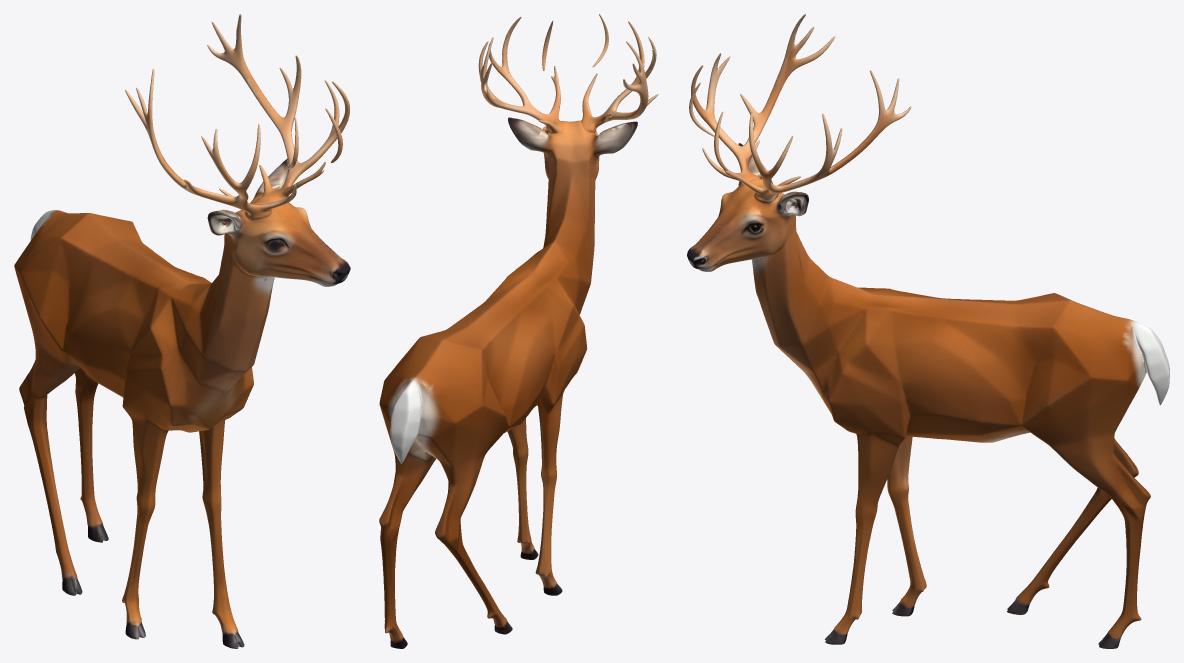
File: stand.glb
3 renders of one model, left to right at view 1: azimuth 30°, elevation 25°; view 2: azimuth 150°, elevation 25°; view 3: azimuth 270°, elevation 25°, orthographic. The views are drawn at different scales.
Size of the model in its own units: 0.6026 by 1.9 by 1.43.
Materials: 1 (1 with a texture image).
